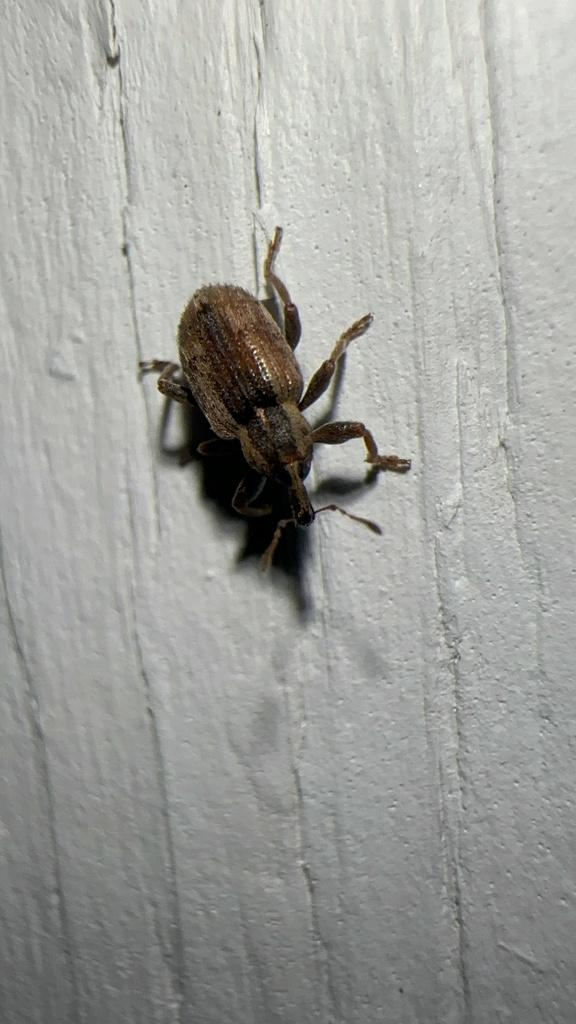weevils: (83, 194, 466, 600)
